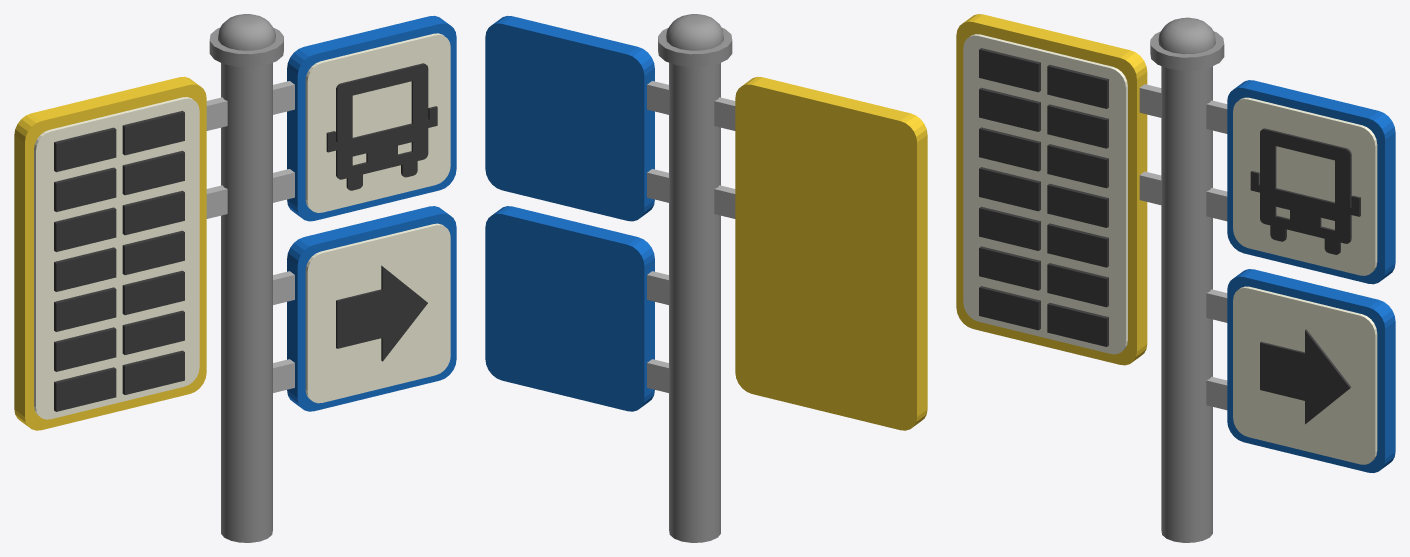
File: bus_stop.glb
3 renders of one model, left to right at view 1: azimuth 30°, elevation 25°; view 2: azimuth 150°, elevation 25°; view 3: azimuth 330°, elevation 25°, orthographic.
Visible parts, largest first — view 1: Cylinder.446; view 2: Cylinder.446; view 3: Cylinder.446.
Part boxes in pixels (box(x1,y1,x2,y2)): Cylinder.446: box(14, 14, 456, 542); Cylinder.446: box(485, 14, 927, 542); Cylinder.446: box(956, 14, 1395, 542).
Bounding box in the file's own units: 2.13 × 2.41 × 0.321.
1 material, 1 textured.
